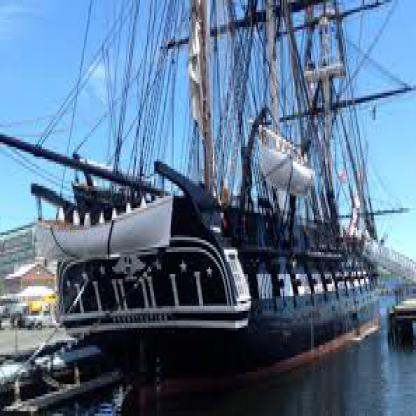Constitution: (0, 81, 402, 404)
